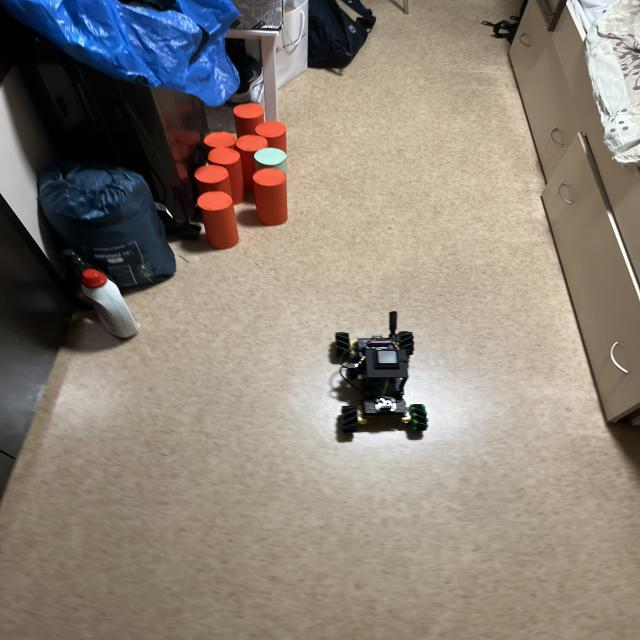robot: (335, 311, 428, 434)
